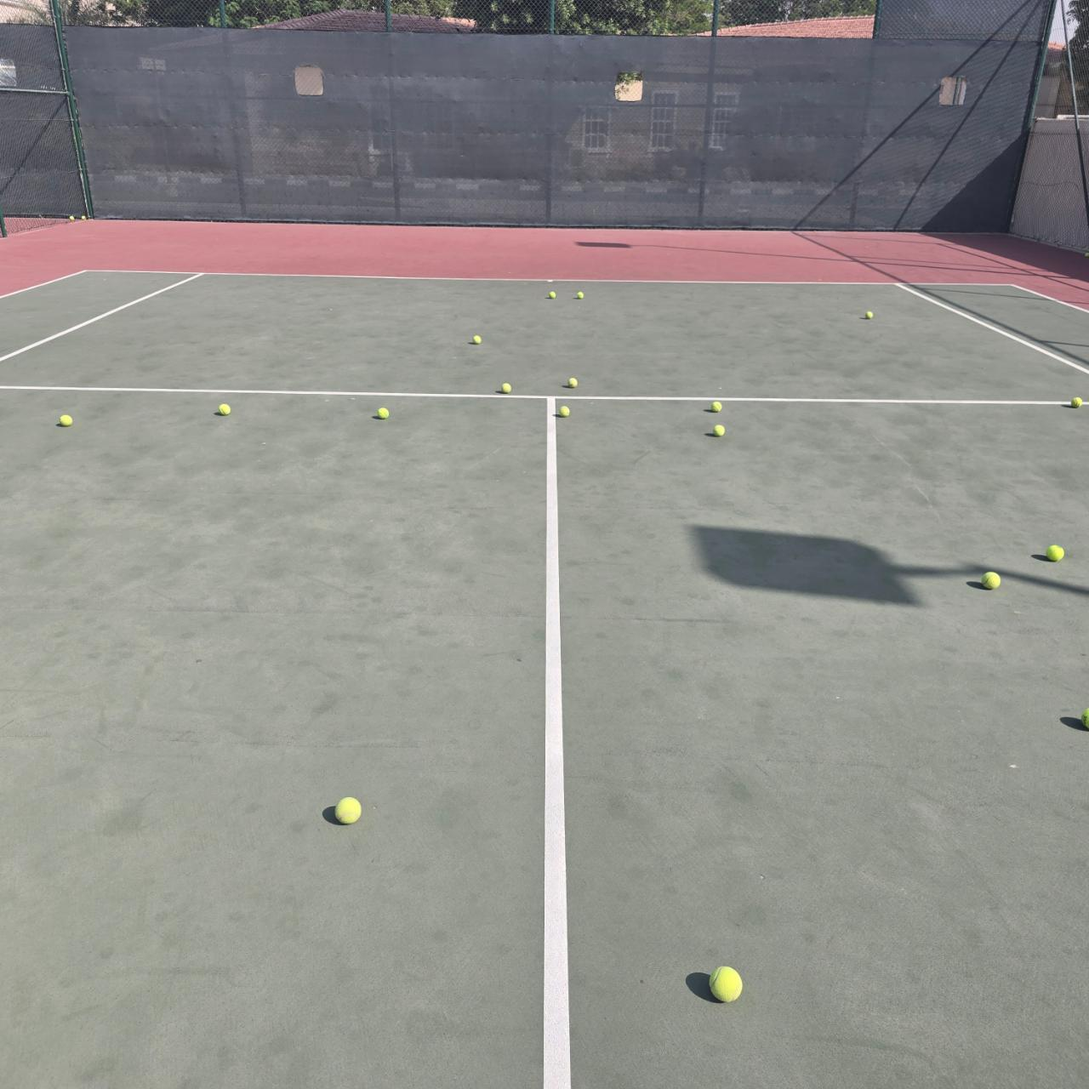tennis-ball: (708, 963, 743, 1002), (334, 794, 362, 824), (982, 571, 1001, 589), (1046, 544, 1064, 562), (215, 401, 231, 415), (57, 412, 72, 426), (378, 407, 390, 419), (713, 425, 725, 437), (711, 401, 722, 413), (471, 334, 482, 345), (559, 405, 569, 417), (501, 383, 511, 394), (568, 377, 578, 388), (1071, 398, 1082, 408), (865, 311, 874, 319), (577, 292, 584, 300), (549, 292, 556, 299), (81, 215, 86, 220), (70, 216, 74, 220)
